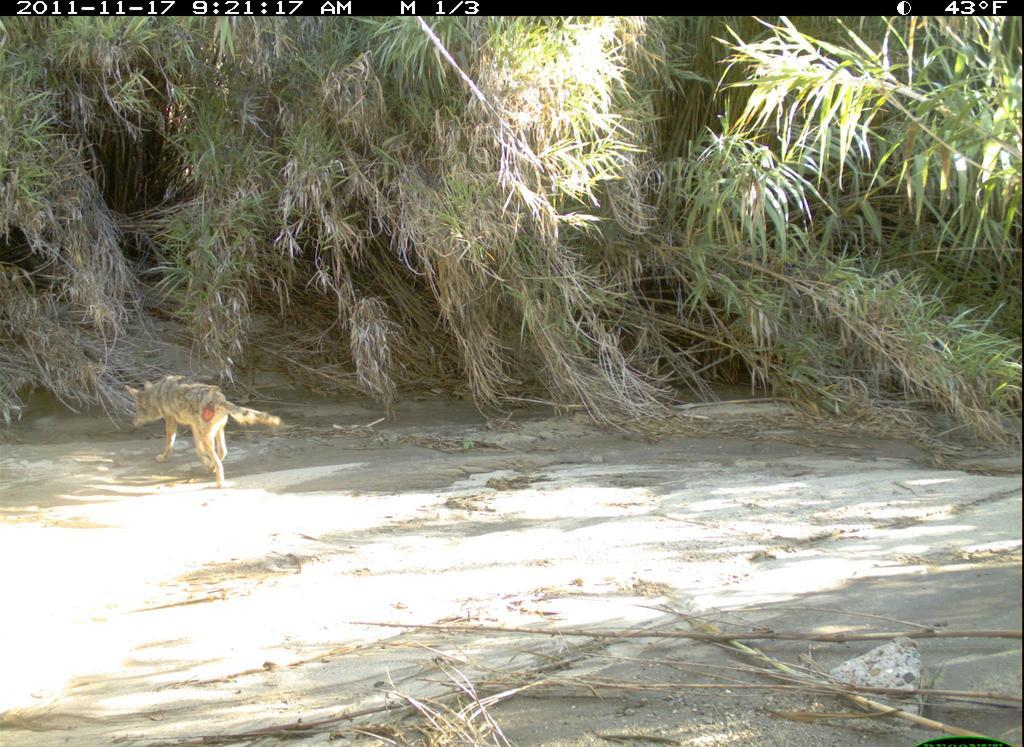coyote: (120, 372, 299, 497)
